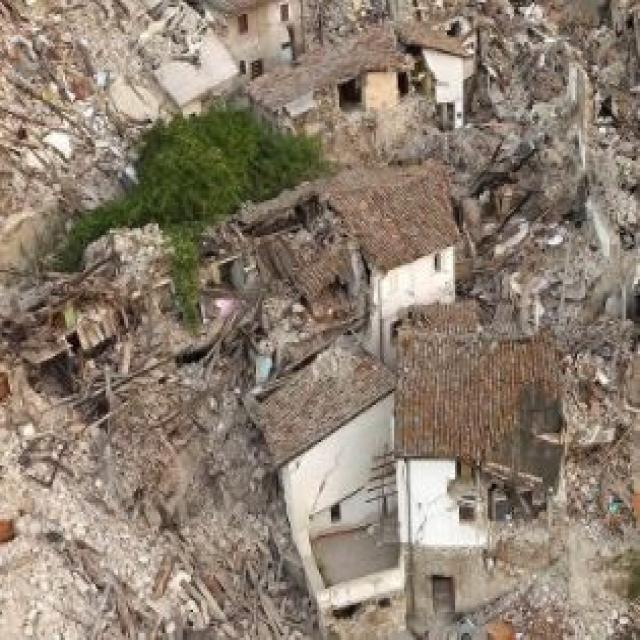collapsed_building: (14, 158, 427, 419), (453, 2, 638, 321), (0, 5, 203, 186)
